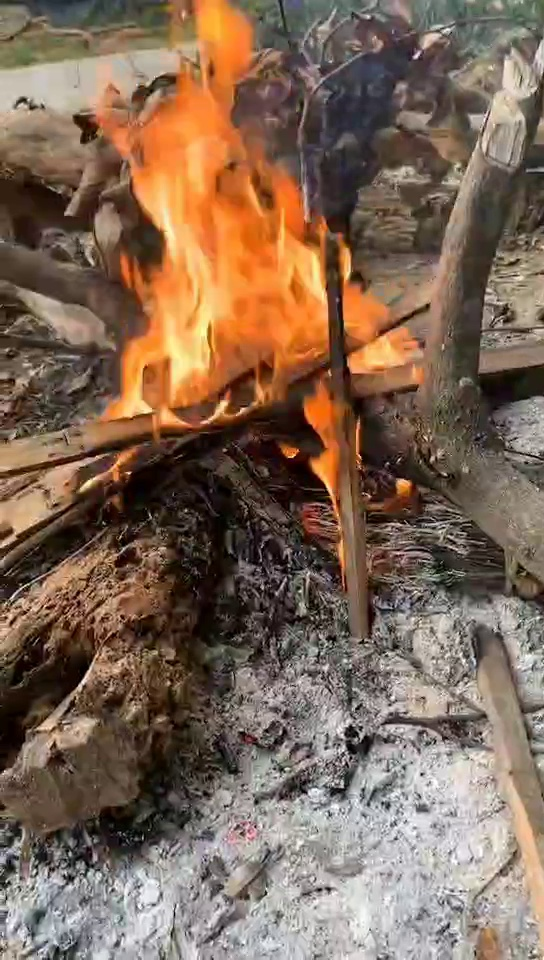fire: (110, 49, 388, 403)
